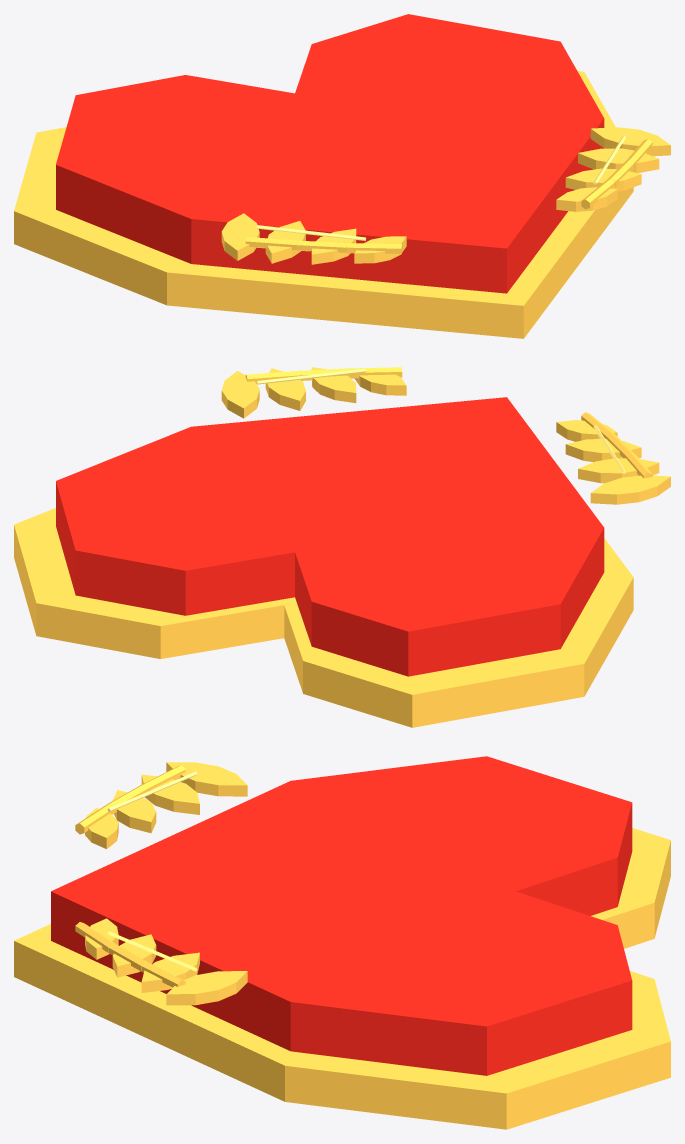
The model's file is Heart.fbx.
3 renders of one model, top to bottom at view 1: azimuth 30°, elevation 25°; view 2: azimuth 150°, elevation 25°; view 3: azimuth 270°, elevation 25°, orthographic. The views are drawn at different scales.
Parts seen in each view (by area): view 1: LowPoly_Red_Heart_Body, LowPoly_Gold_Heart_Border, Right_Surface_Gold_Leaf_0, Right_Surface_Gold_Leaf_1, Left_Surface_Gold_Leaf_0, Right_Surface_Gold_Leaf_2, Right_Surface_Gold_Leaf_3, Left_Surface_Gold_Leaf_1, Left_Surface_Gold_Leaf_3, Left_Surface_Gold_Leaf_2, Left_Embossed_Gold_Stem_2; view 2: LowPoly_Red_Heart_Body, LowPoly_Gold_Heart_Border, Left_Surface_Gold_Leaf_0, Right_Surface_Gold_Leaf_0, Left_Surface_Gold_Leaf_1, Left_Surface_Gold_Leaf_2, Right_Surface_Gold_Leaf_2, Right_Surface_Gold_Leaf_1, Right_Surface_Gold_Leaf_3, Left_Surface_Gold_Leaf_3; view 3: LowPoly_Red_Heart_Body, LowPoly_Gold_Heart_Border, Right_Surface_Gold_Leaf_0, Left_Surface_Gold_Leaf_0, Left_Surface_Gold_Leaf_1, Right_Surface_Gold_Leaf_1, Left_Surface_Gold_Leaf_2, Right_Surface_Gold_Leaf_2, Left_Surface_Gold_Leaf_3, Right_Surface_Gold_Leaf_3.
Boxes of the visible parts, left/top/right/bottom form: LowPoly_Red_Heart_Body: left=56, top=14, right=604, bottom=293; LowPoly_Gold_Heart_Border: left=14, top=70, right=633, bottom=338; Right_Surface_Gold_Leaf_0: left=590, top=127, right=670, bottom=156; Right_Surface_Gold_Leaf_1: left=578, top=148, right=659, bottom=173; Left_Surface_Gold_Leaf_0: left=221, top=213, right=259, bottom=260; Right_Surface_Gold_Leaf_2: left=565, top=168, right=641, bottom=191; Right_Surface_Gold_Leaf_3: left=556, top=187, right=617, bottom=211; Left_Surface_Gold_Leaf_1: left=265, top=221, right=305, bottom=263; Left_Surface_Gold_Leaf_3: left=354, top=236, right=406, bottom=263; Left_Surface_Gold_Leaf_2: left=311, top=228, right=356, bottom=264; Left_Embossed_Gold_Stem_2: left=346, top=243, right=402, bottom=254; LowPoly_Red_Heart_Body: left=56, top=397, right=604, bottom=676; LowPoly_Gold_Heart_Border: left=14, top=508, right=633, bottom=727; Left_Surface_Gold_Leaf_0: left=590, top=475, right=670, bottom=504; Right_Surface_Gold_Leaf_0: left=221, top=371, right=259, bottom=418; Left_Surface_Gold_Leaf_1: left=578, top=458, right=659, bottom=483; Left_Surface_Gold_Leaf_2: left=565, top=438, right=641, bottom=462; Right_Surface_Gold_Leaf_2: left=311, top=367, right=356, bottom=403; Right_Surface_Gold_Leaf_1: left=265, top=368, right=305, bottom=410; Right_Surface_Gold_Leaf_3: left=354, top=374, right=406, bottom=395; Left_Surface_Gold_Leaf_3: left=556, top=420, right=617, bottom=441; LowPoly_Red_Heart_Body: left=51, top=756, right=632, bottom=1075; LowPoly_Gold_Heart_Border: left=14, top=828, right=670, bottom=1129; Right_Surface_Gold_Leaf_0: left=166, top=971, right=247, bottom=1005; Left_Surface_Gold_Leaf_0: left=166, top=762, right=247, bottom=796; Left_Surface_Gold_Leaf_1: left=141, top=774, right=199, bottom=814; Right_Surface_Gold_Leaf_1: left=141, top=952, right=199, bottom=992; Left_Surface_Gold_Leaf_2: left=112, top=790, right=156, bottom=833; Right_Surface_Gold_Leaf_2: left=112, top=934, right=156, bottom=977; Left_Surface_Gold_Leaf_3: left=85, top=808, right=118, bottom=849; Right_Surface_Gold_Leaf_3: left=85, top=918, right=118, bottom=959.
Bounding box in the file's own units: 199 × 32.6 × 181.
